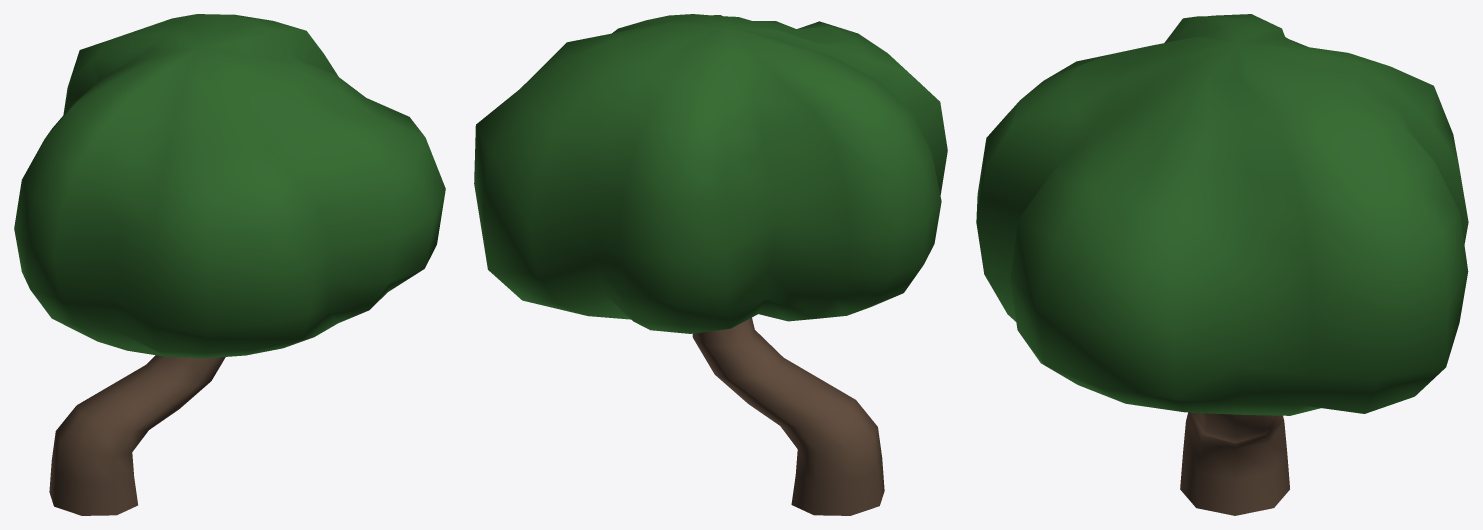
File: shrub-1-3.fbx
The picture shows the model from 3 angles, left to right: view 1: azimuth 30°, elevation 25°; view 2: azimuth 150°, elevation 25°; view 3: azimuth 270°, elevation 25°; orthographic projection. The views are drawn at different scales.
Parts seen in each view (by area): view 1: Leaves; view 2: Leaves; view 3: Leaves.
Boxes of the visible parts, <box> form: Leaves: <box>14,14,445,515</box>; Leaves: <box>474,14,947,515</box>; Leaves: <box>976,14,1468,515</box>.
Size of the model in its own units: 38.44 by 41.01 by 35.77.
